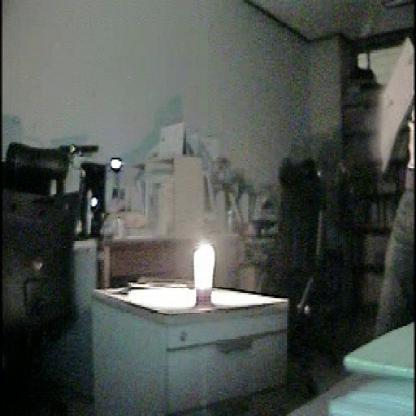fire: (181, 238, 229, 306)
